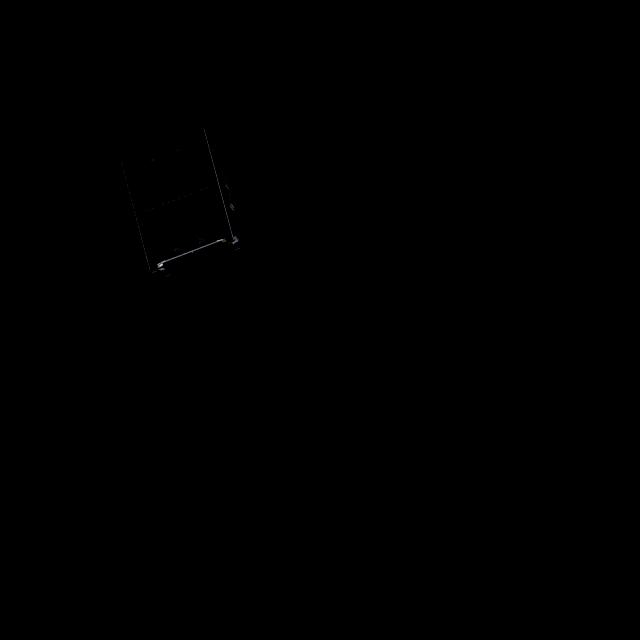satellite: (110, 132, 242, 284)
